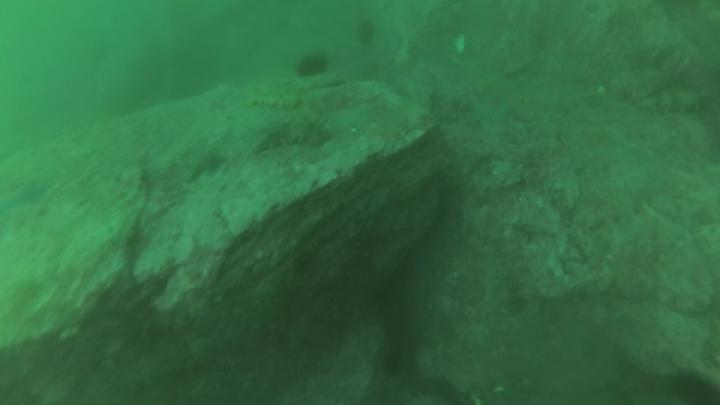echinus: (295, 50, 331, 82), (354, 15, 378, 46)
holothurian: (249, 117, 330, 157), (634, 82, 719, 116), (248, 87, 304, 114)
starfish: (178, 147, 231, 183), (7, 177, 51, 211)
